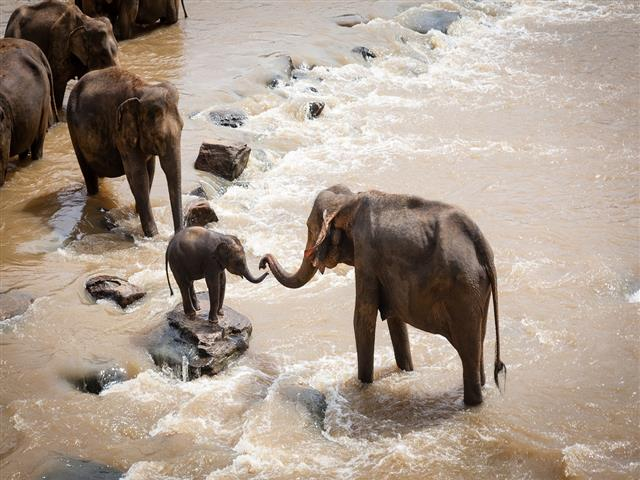elephant: (253, 180, 520, 412), (62, 64, 204, 257), (3, 2, 141, 127), (161, 223, 274, 328)
